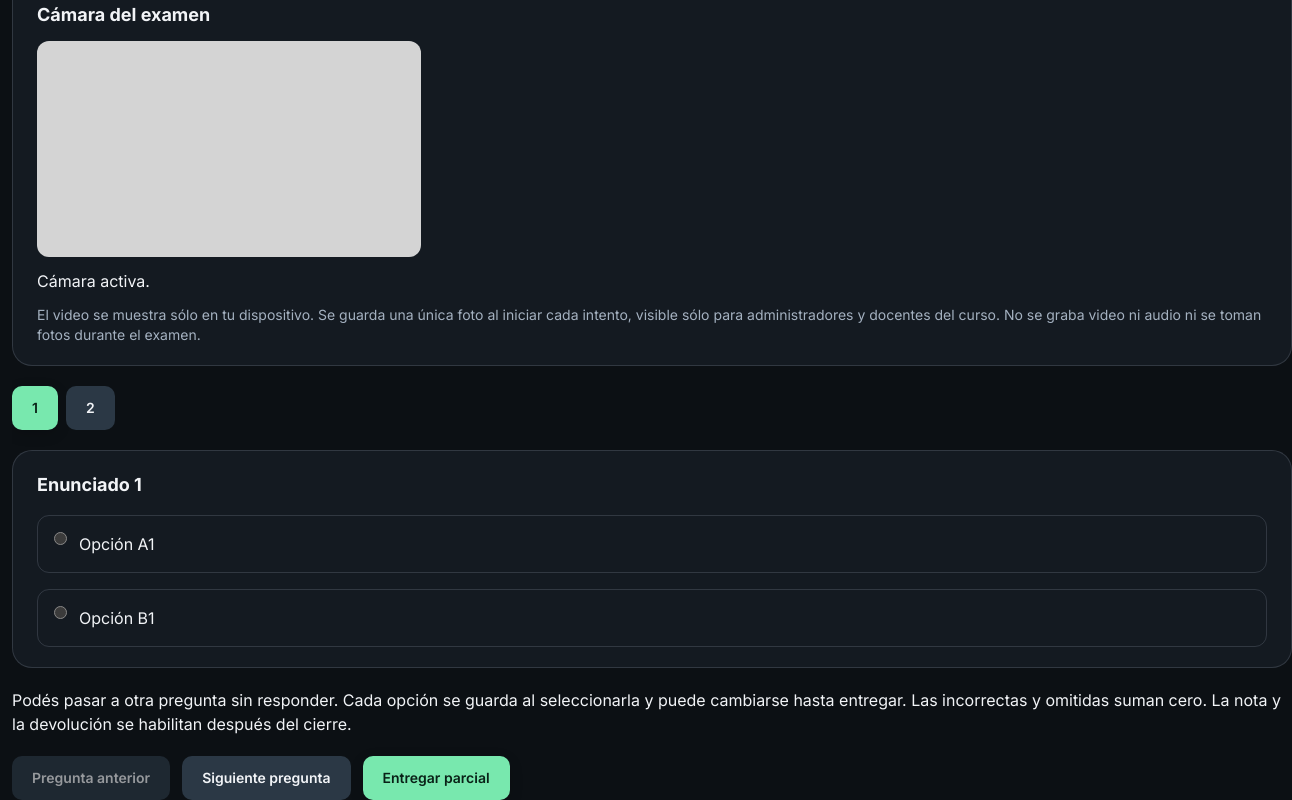
muestra una pregunta por vez y guarda al tildar, sin confirmación adicional
The width and height of the screenshot is (1292, 800).
(page scrolled)
Expected: the text "Enunciado 2" is not shown
Click the radio button labelled "Opción B1".
click(60, 612)  # box [54,606,67,619]
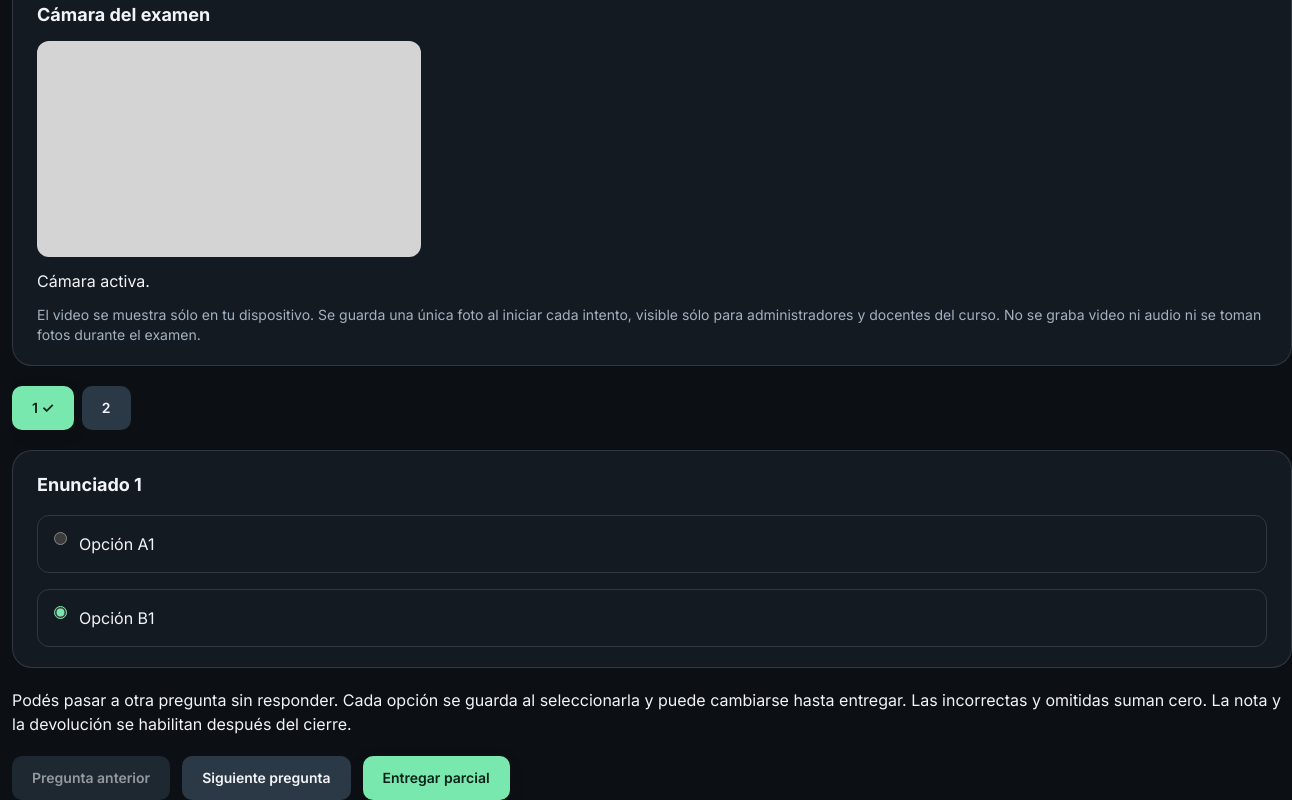
Expected: the radio button labelled "Opción A1" is enabled, [54,532,67,545]
Expected: the radio button labelled "Opción B1" is checked, [54,606,67,619]
Click the button "Siguiente pregunta".
click(266, 778)  # box [182,756,350,799]
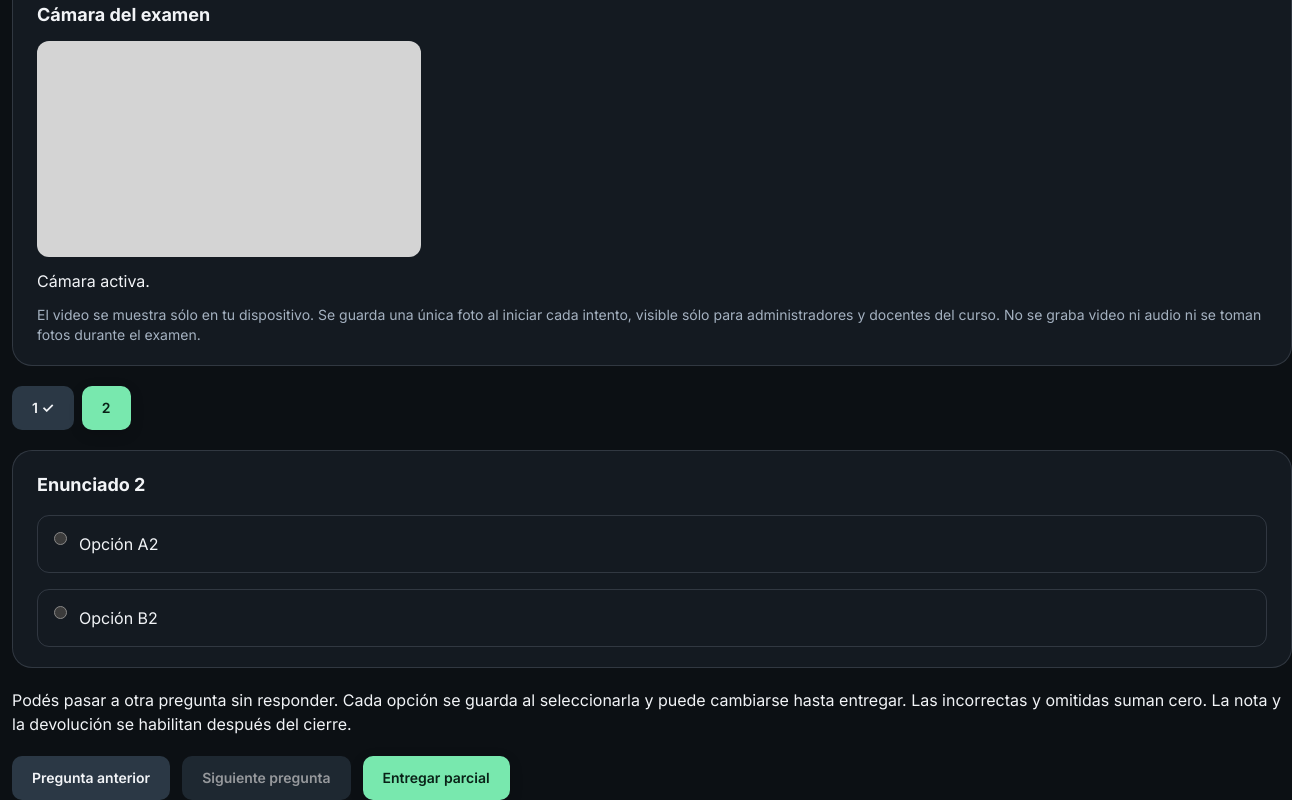
Expected: the text "Enunciado 2" is shown, [37,471,146,499]
Expected: the text "Enunciado 1" is gone
